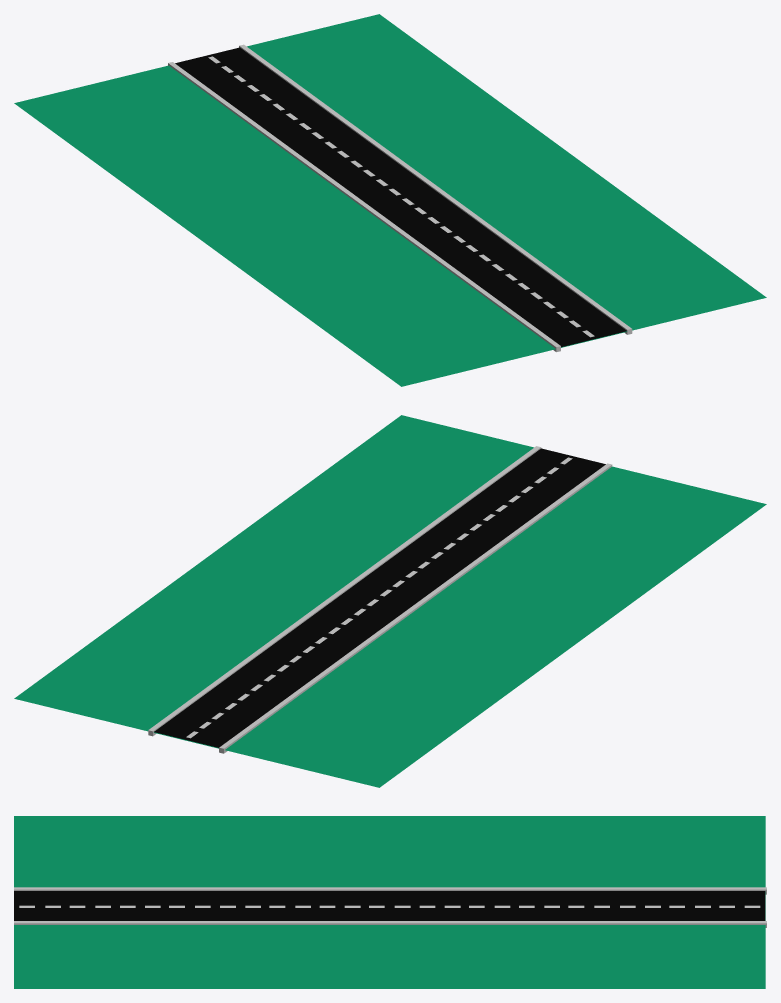
File: straight_road.obj
3 renders of one model, top to bottom at view 1: azimuth 30°, elevation 25°; view 2: azimuth 150°, elevation 25°; view 3: azimuth 270°, elevation 25°, orthographic. The views are drawn at different scales.
Parts seen in each view (by area): view 1: land_Plane.001, road_Plane, curb.001_Cube.001, curb_Cube; view 2: land_Plane.001, road_Plane, curb.001_Cube.001, curb_Cube; view 3: land_Plane.001, road_Plane, curb.001_Cube.001, curb_Cube.
Part boxes in pixels (box(x1,y1,x2,y2)): land_Plane.001: box(14, 14, 766, 386); road_Plane: box(175, 47, 626, 347); curb.001_Cube.001: box(168, 62, 560, 352); curb_Cube: box(239, 44, 632, 334); land_Plane.001: box(14, 415, 766, 787); road_Plane: box(154, 448, 605, 747); curb.001_Cube.001: box(219, 463, 612, 753); curb_Cube: box(148, 446, 541, 736); land_Plane.001: box(14, 816, 765, 988); road_Plane: box(14, 891, 765, 920); curb.001_Cube.001: box(14, 887, 766, 894); curb_Cube: box(14, 921, 766, 927).
Bounding box in the file's own units: 13.11 × 0.1713 × 24.13.
